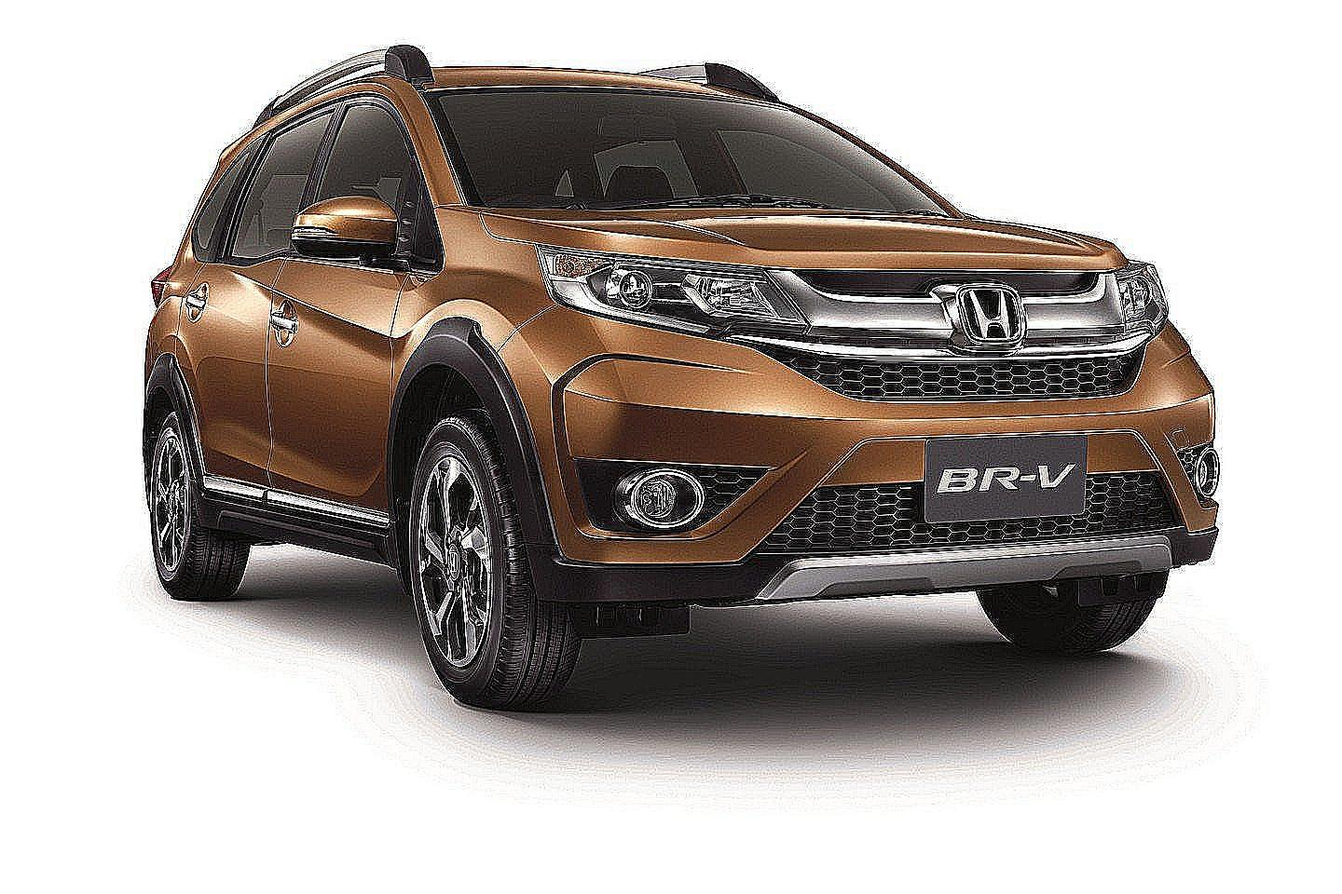Car hood: (500, 199, 1138, 282)
Driver-s door - -F-R-: (246, 58, 438, 575)
Fender - -F-R-: (384, 204, 566, 420)
Front bumper: (485, 301, 1231, 620)
Headlight - -L-: (1101, 256, 1173, 350)
Headlight - -R-: (534, 244, 806, 353)
Passenger-s door - -R-R-: (174, 58, 337, 585)
Side bumper - -R-: (194, 461, 411, 585)
Side mirror - -R-: (135, 203, 191, 456), (292, 194, 425, 282)
